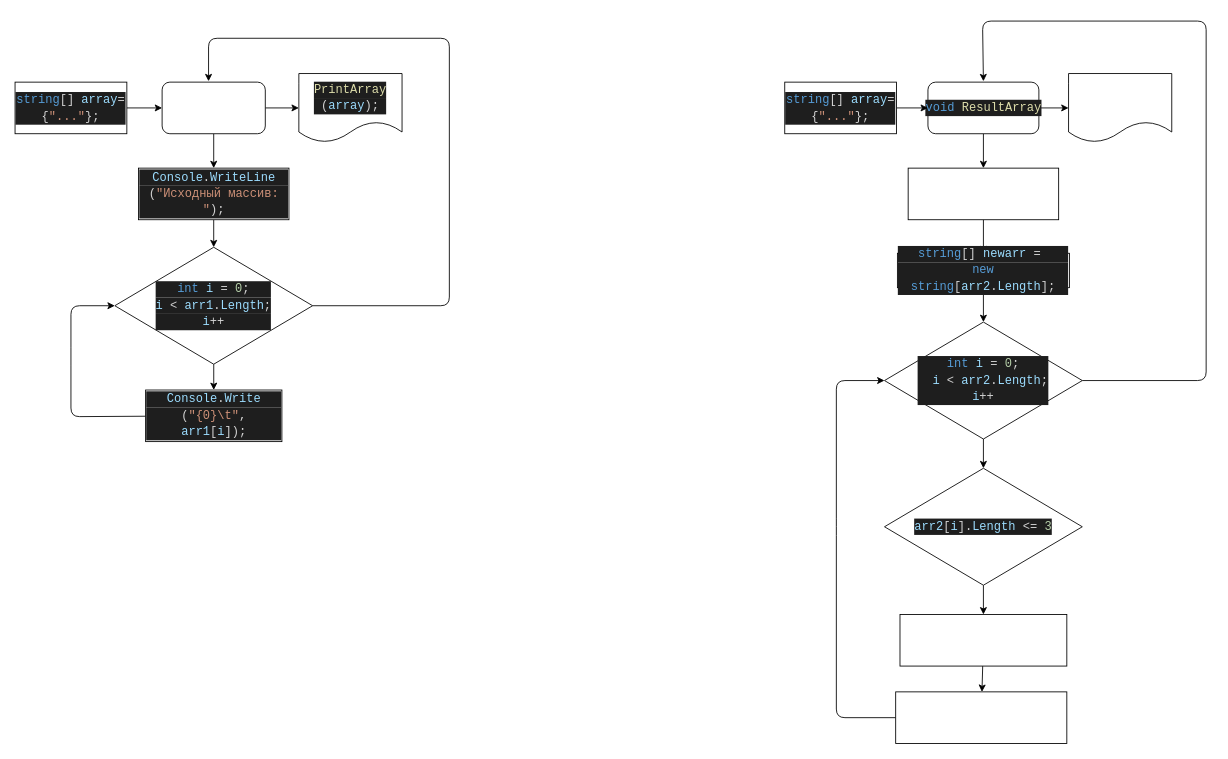
Some shapes in this 1228 by 759 pixel diagram are drawn without their labels. The shapes that lost their labels are listed below. From the top down, each one's centre as x and y in pixels, then its label:
point (213, 107): void PrintArray
point (1120, 107): ResultArray ( array );
point (983, 193): Console . WriteLine ( "Результат: " );
point (983, 640): newarr [ i ] = arr2 [ i ];
point (981, 717): Console . Write ( "{0} \t " , newarr [ i ]);
